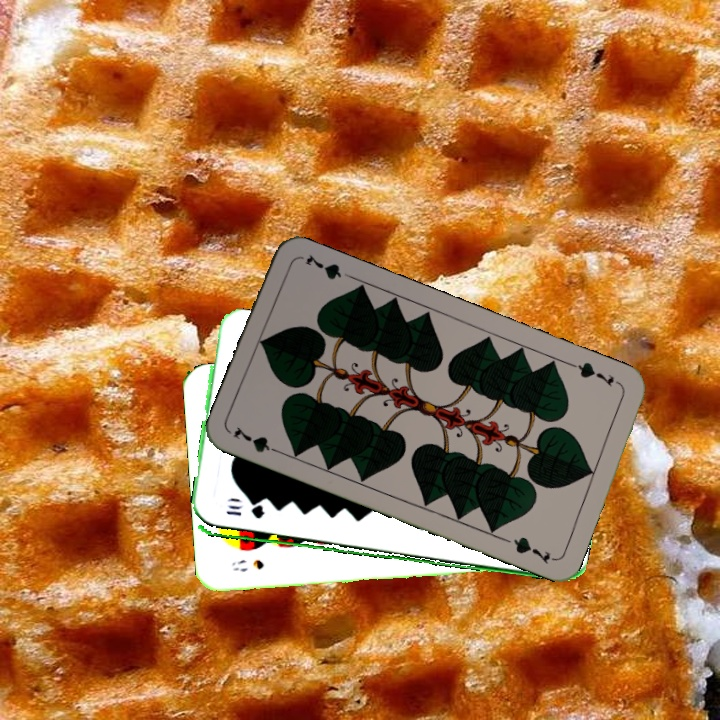G10: (222, 505, 268, 522)
G7: (229, 422, 285, 457), (567, 358, 617, 389)
S8: (228, 555, 266, 575)
